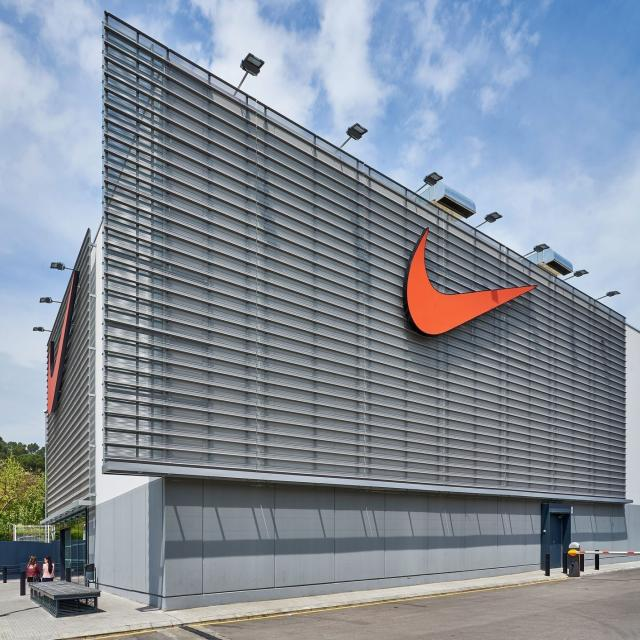nike: (386, 211, 544, 364)
